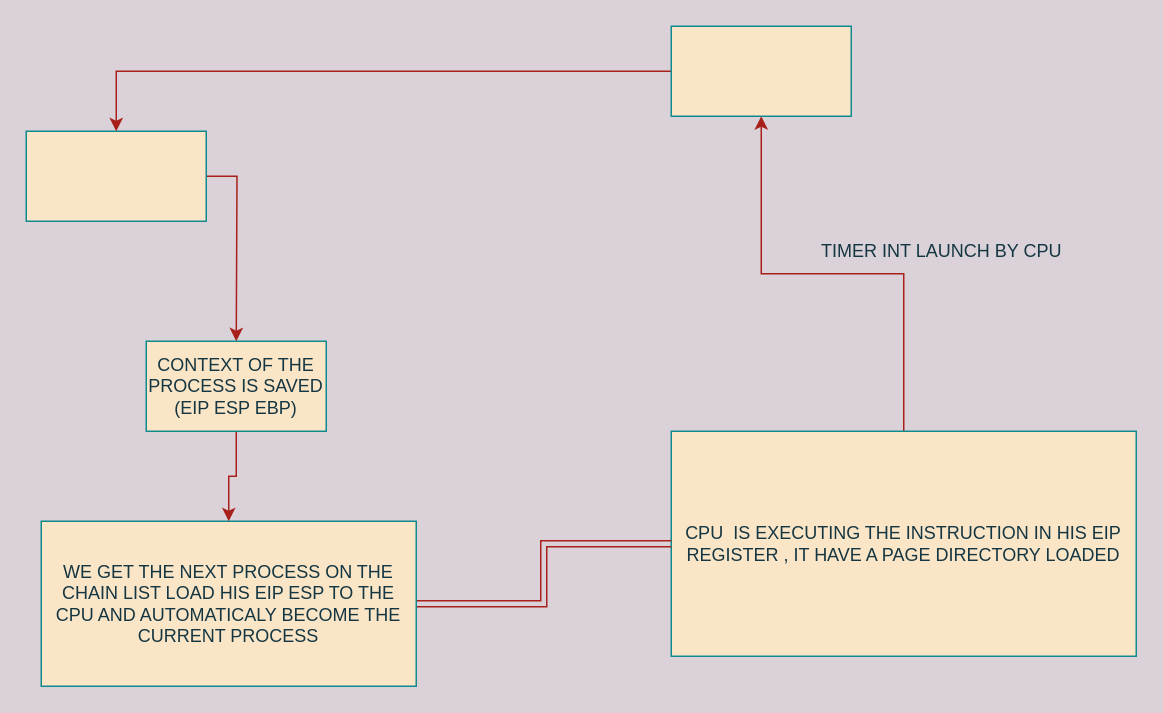
The diagram is 1163 pixels wide and 713 high, and some of its shapes have lost their labels. Here are the shapes that lost their labels. From the top down, the centre of each, then its label:
At (x=760, y=70): "TIMER INTERUPT".
At (x=115, y=175): "OS CALL SWITCH_PROCESS".
